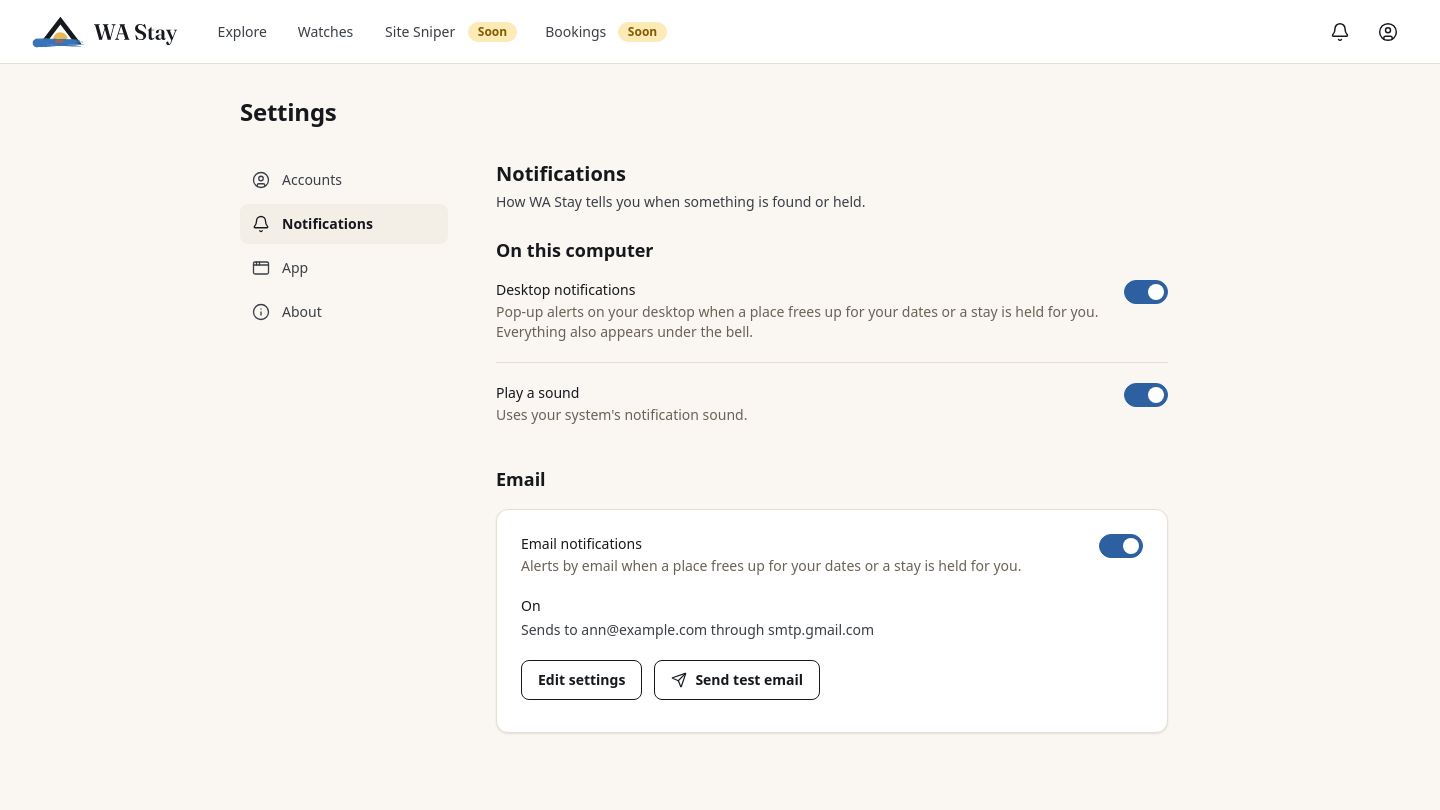
EmailNotifierCard with a stored password (hasPassword) › renders no password input; "Password saved" and Replace are shown
What coordinates should you click on to do the following:
click the button "Edit settings"
I would click on:
 (582, 680)
Its box is [521,660,642,700].
(page scrolled)
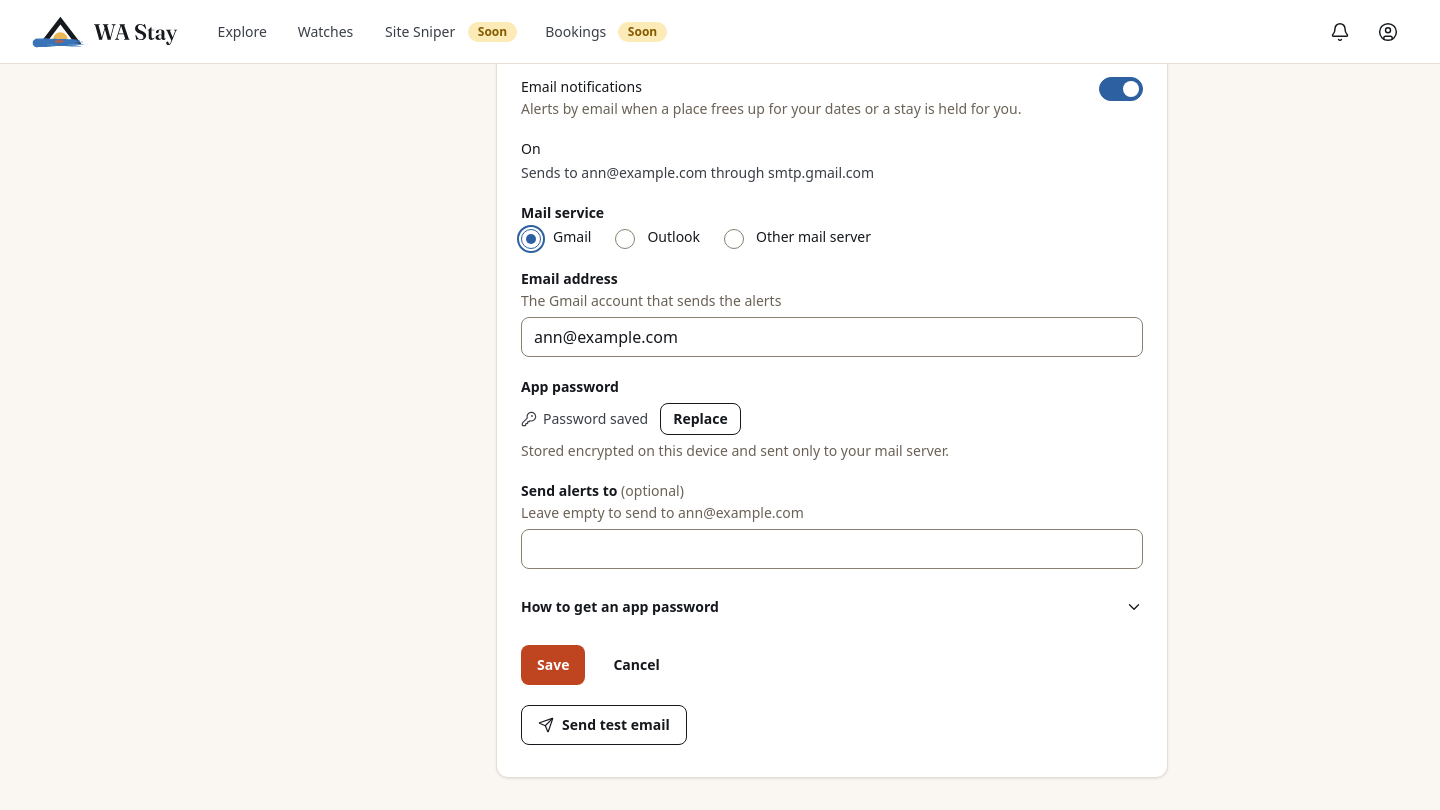
Check: the text "Password saved" is shown, box [521,409,648,429]
Check: the button "Replace" is shown, box [660,403,741,435]
Check: the text "Stored encrypted on this device and sent only to your mail server." is shown, box [521,441,949,460]
